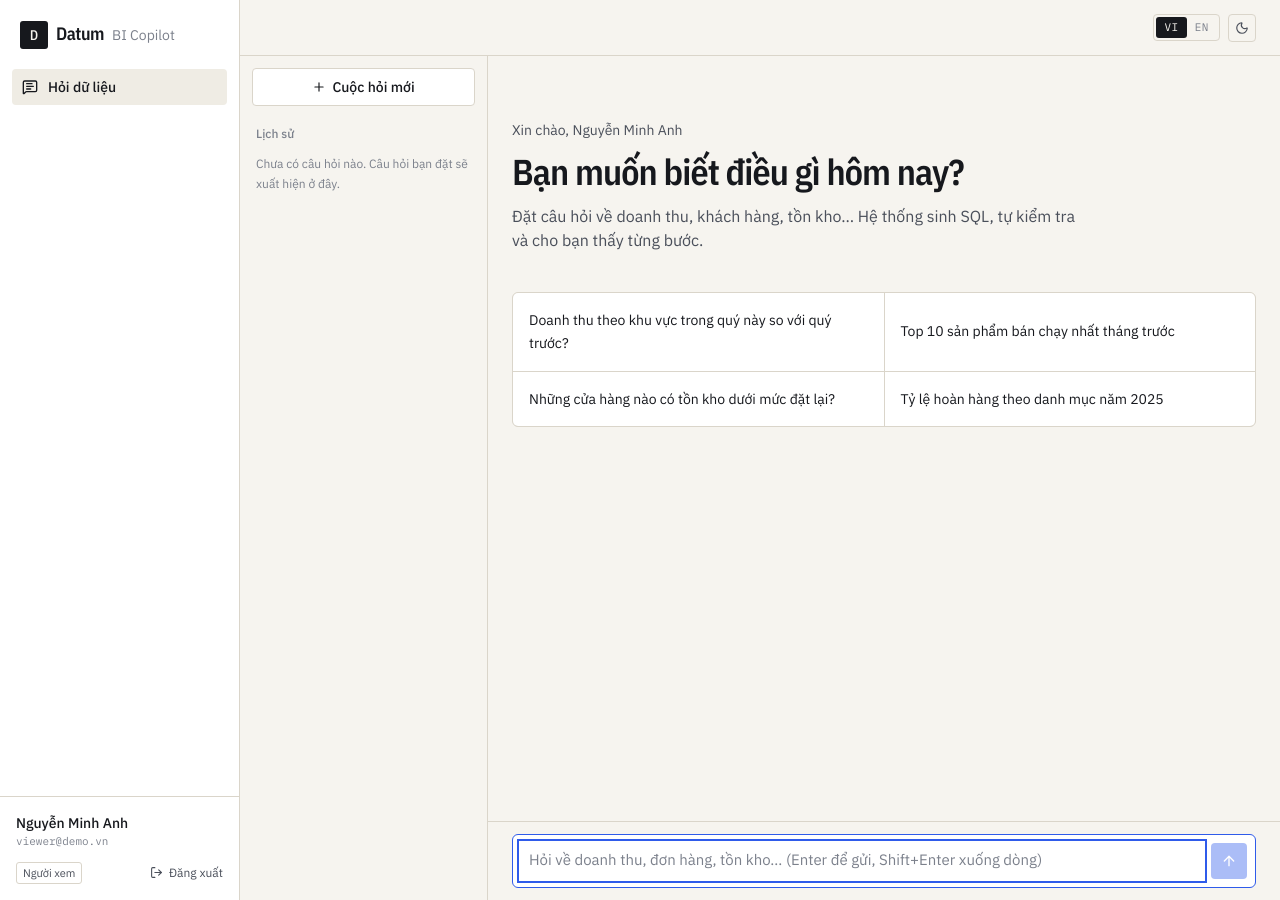
Test: routing & login › shows the signed-in user and signs out back to login
This screenshot has width=1280, height=900.
Expected: the text "Nguyễn Minh Anh" is shown, [16,814,128,832]
Expected: the link "Hỏi dữ liệu" is shown, [12,69,227,105]
Step 1. Click the button "Đăng xuất" → click(186, 873), box [150,865,223,881]
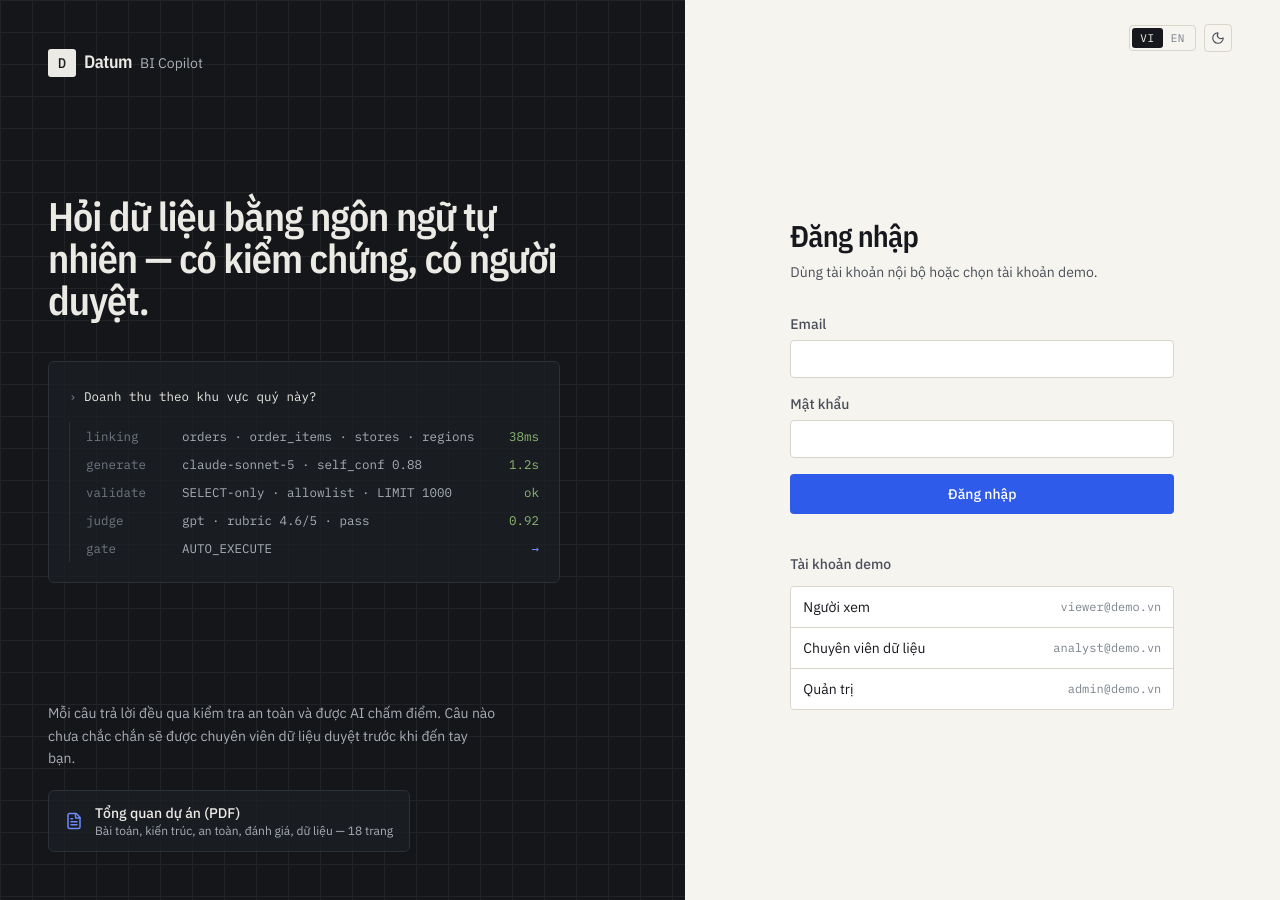
Expected: the heading "Đăng nhập" is shown, [790,216,918,255]
